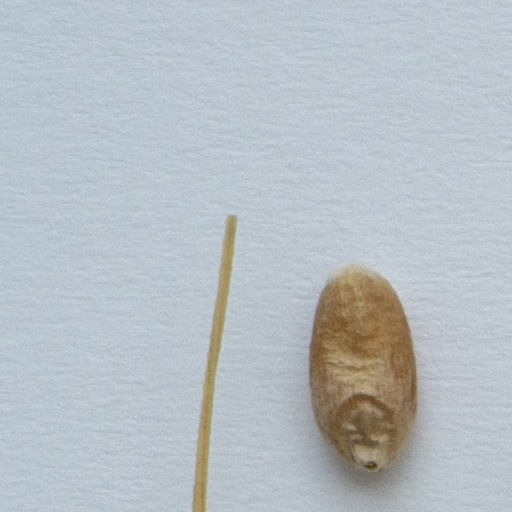Peel-poly: (184, 205, 240, 511)
